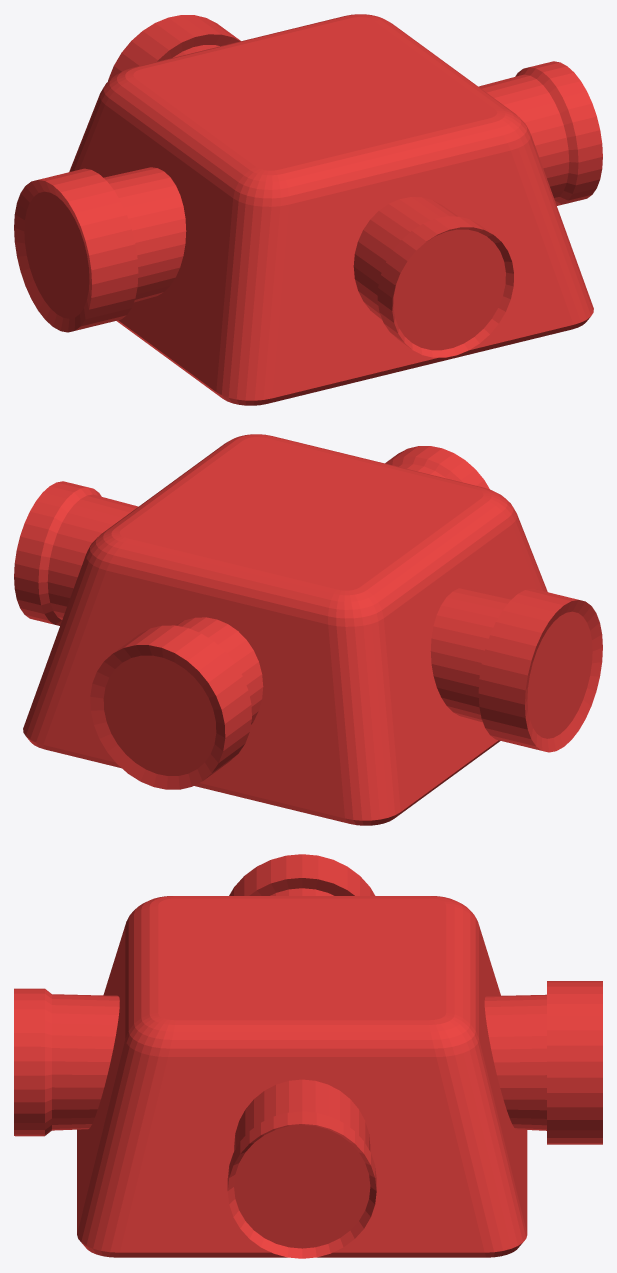
Rendered from 1num.fbx.
3 views of the same model, one above another, from view 1: azimuth 30°, elevation 25°; view 2: azimuth 150°, elevation 25°; view 3: azimuth 270°, elevation 25° (orthographic). The views are drawn at different scales.
Visible parts, largest first — view 1: Cube.014; view 2: Cube.014; view 3: Cube.014.
Boxes of the visible parts, x1,y1,x2,y2 form: Cube.014: (14, 14, 602, 405); Cube.014: (14, 434, 602, 825); Cube.014: (14, 854, 602, 1258).
Bounding box in the file's own units: 2.74 × 1 × 2.59.
